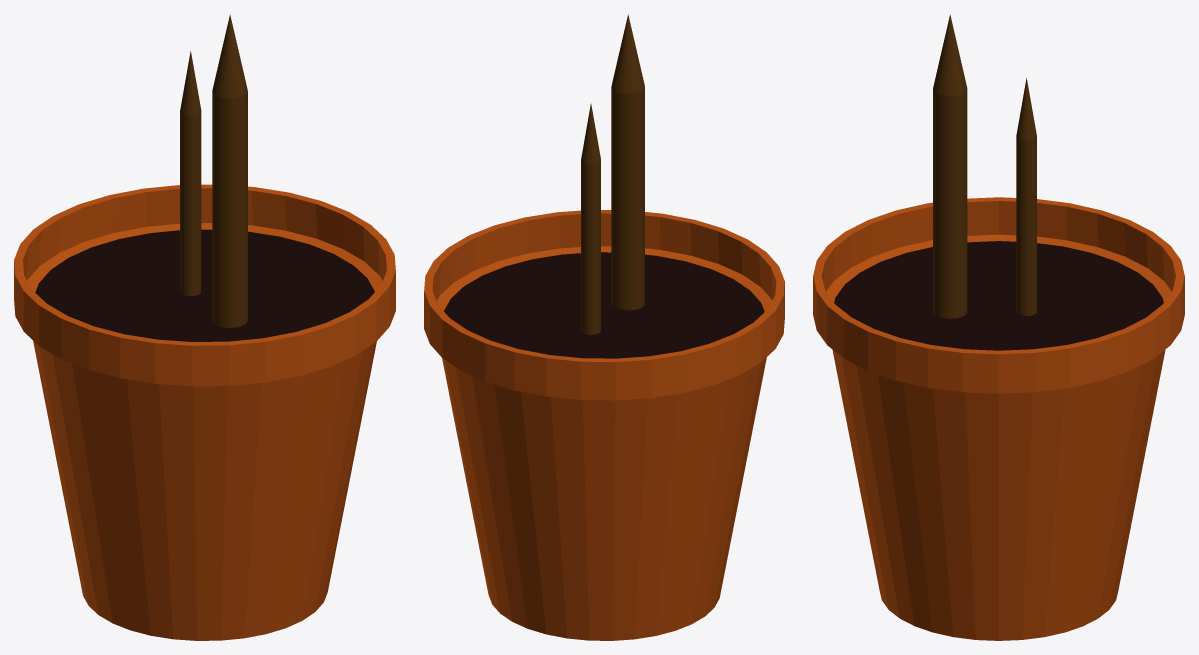
The model's file is plantpot_deadplant.fbx.
3 renders of one model, left to right at view 1: azimuth 30°, elevation 25°; view 2: azimuth 150°, elevation 25°; view 3: azimuth 270°, elevation 25°, orthographic. The views are drawn at different scales.
Visible parts, largest first — view 1: Cylinder, Plant.001, Plant; view 2: Cylinder, Plant.001, Plant; view 3: Cylinder, Plant.001, Plant.
Part boxes in pixels (<box>): Cylinder: <box>14,184,395,640</box>; Plant.001: <box>212,14,247,327</box>; Plant: <box>180,51,201,295</box>; Cylinder: <box>424,210,784,640</box>; Plant.001: <box>611,14,644,310</box>; Plant: <box>581,103,600,334</box>; Cylinder: <box>813,197,1184,640</box>; Plant.001: <box>933,14,967,318</box>; Plant: <box>1016,78,1036,315</box>.
Size of the model in its own units: 215 by 368 by 215.
